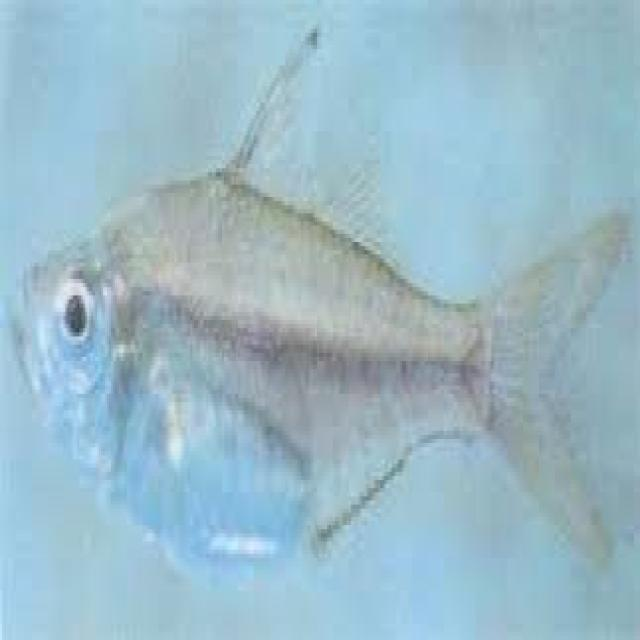Glass-Perchlet: (7, 7, 634, 610)
